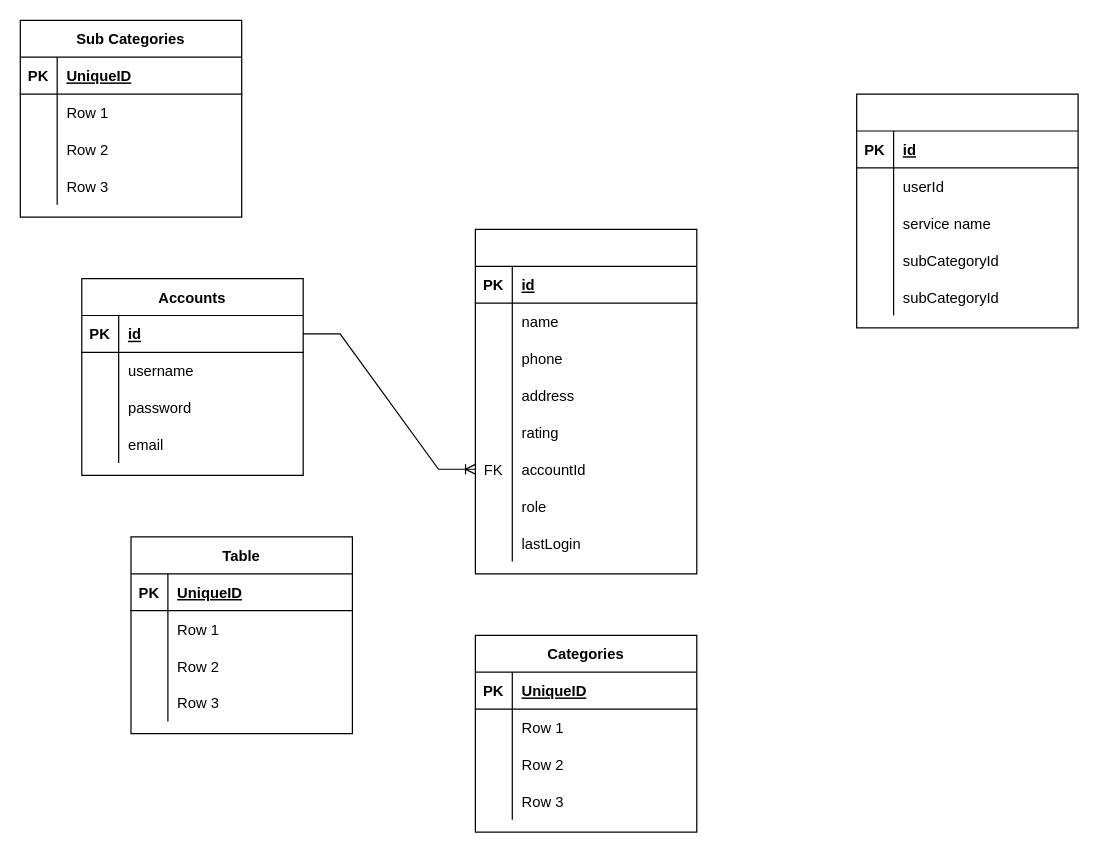
This 1098x852 diagram has some shape labels left out. Each missing label, with the box of its shape:
Services ( Product ): (855, 93, 1078, 328)
Users: (474, 228, 697, 574)
